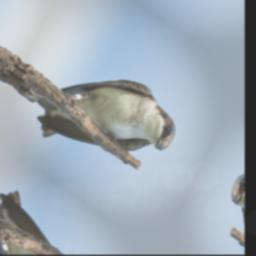Swallow: (24, 32, 186, 208)
